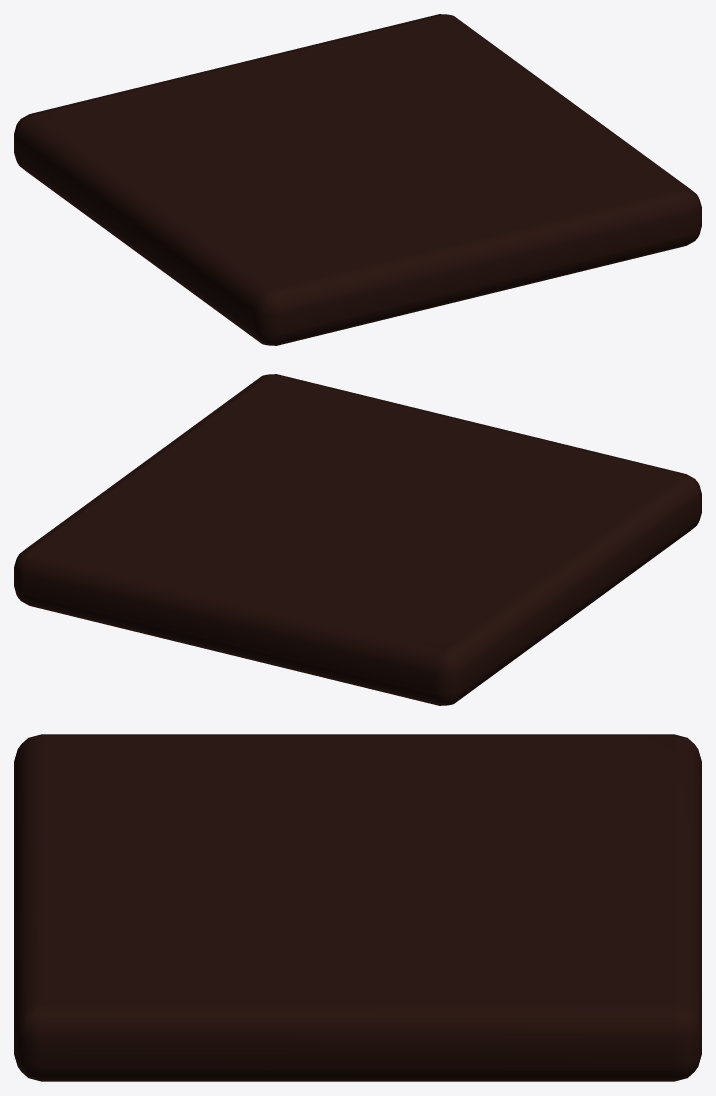
File: web-strip.glb
3 views of the same model, one above another, from view 1: azimuth 30°, elevation 25°; view 2: azimuth 150°, elevation 25°; view 3: azimuth 270°, elevation 25° (orthographic). The views are drawn at different scales.
Parts seen in each view (by area): view 1: Licorice web strip; view 2: Licorice web strip; view 3: Licorice web strip.
Boxes of the visible parts, x1,y1,x2,y2 form: Licorice web strip: [14, 14, 701, 345]; Licorice web strip: [14, 374, 701, 705]; Licorice web strip: [14, 734, 701, 1081].
Bounding box in the file's own units: 1 × 0.12 × 1.
